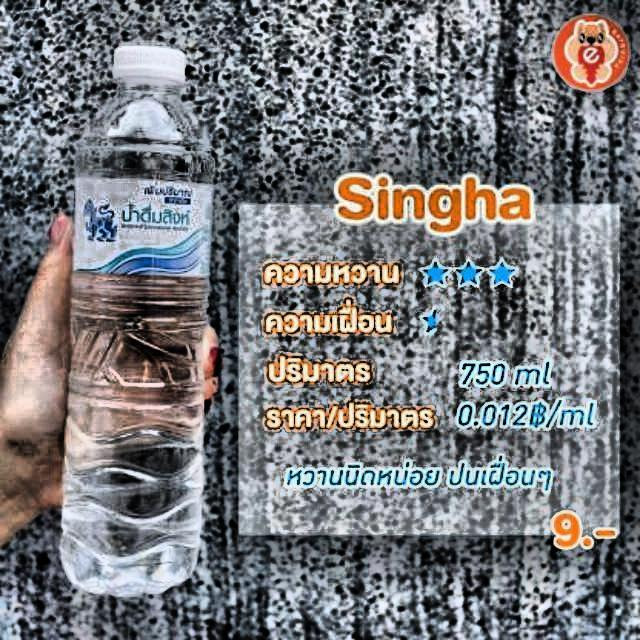Bottles: (58, 40, 215, 601)
